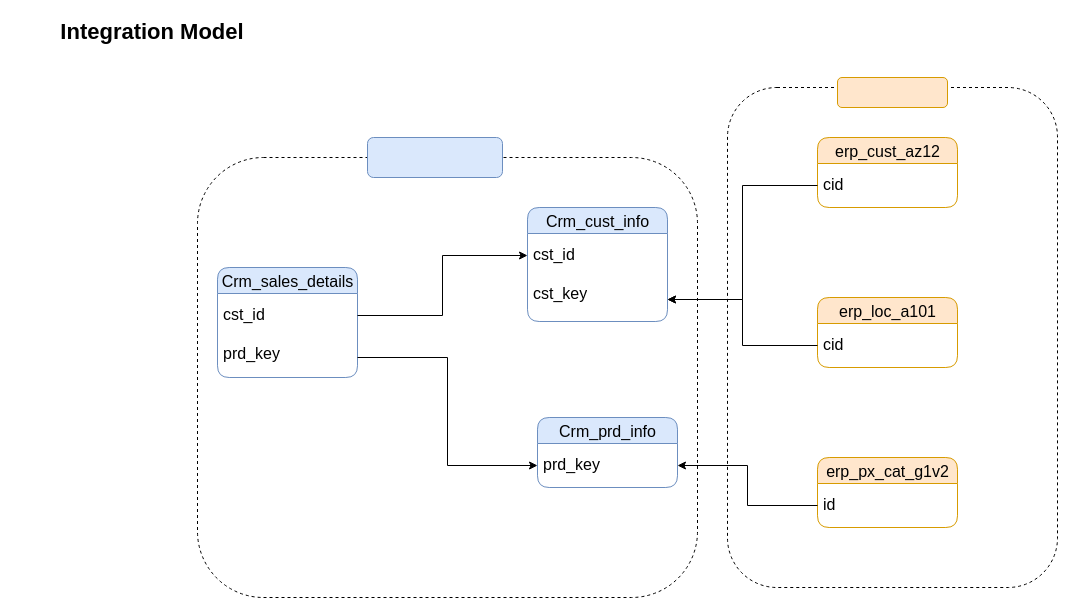
This 1075x615 diagram has some shape labels left out. The centre of each missing label's shape, as x and y in pixels:
crm: (x=434, y=157)
erp: (x=892, y=92)
